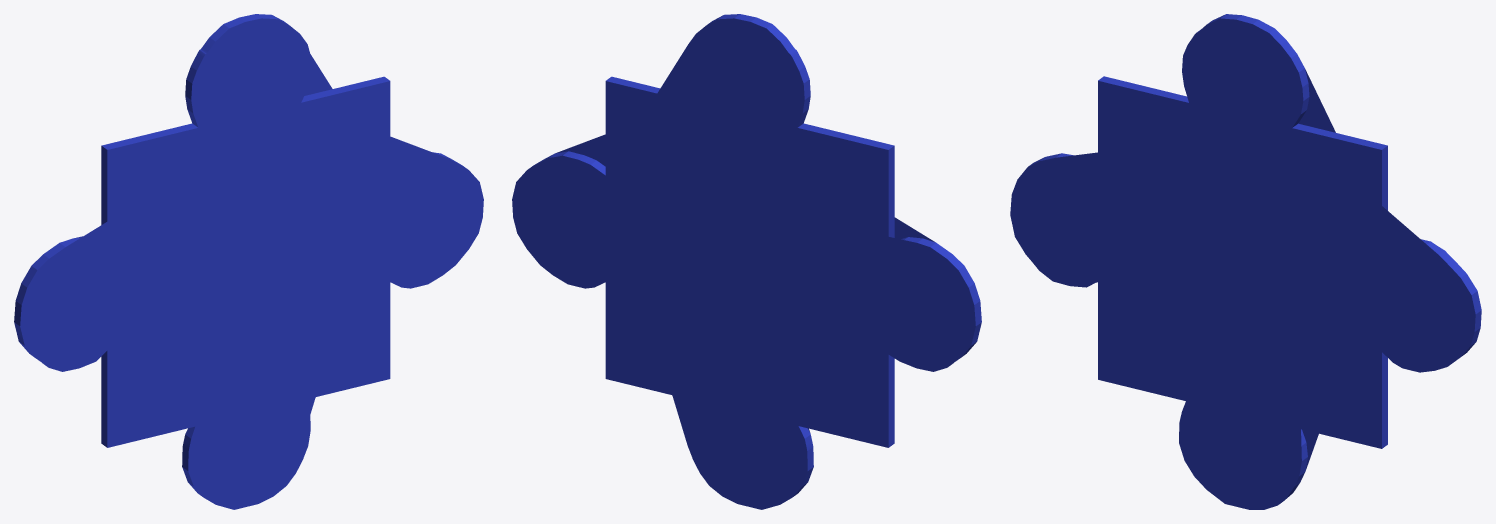
The model's file is InsidePieceFive.obj.
3 renders of one model, left to right at view 1: azimuth 30°, elevation 25°; view 2: azimuth 150°, elevation 25°; view 3: azimuth 330°, elevation 25°, orthographic.
Visible parts, largest first — view 1: Cap_1, Extrude, Cap_2; view 2: Cap_2, Extrude, Cap_1; view 3: Cap_1, Extrude, Cap_2.
Boxes of the visible parts, <box> form: Cap_1: <box>20,18,483,509</box>; Extrude: <box>14,14,466,496</box>; Cap_2: <box>74,54,332,413</box>; Cap_2: <box>512,18,975,509</box>; Extrude: <box>529,14,981,496</box>; Cap_1: <box>556,134,935,432</box>; Cap_1: <box>1010,18,1475,509</box>; Extrude: <box>1028,14,1481,504</box>; Cap_2: <box>1096,69,1335,470</box>.
Bounding box in the file's own units: 0.6978 × 0.6978 × 0.0158.
